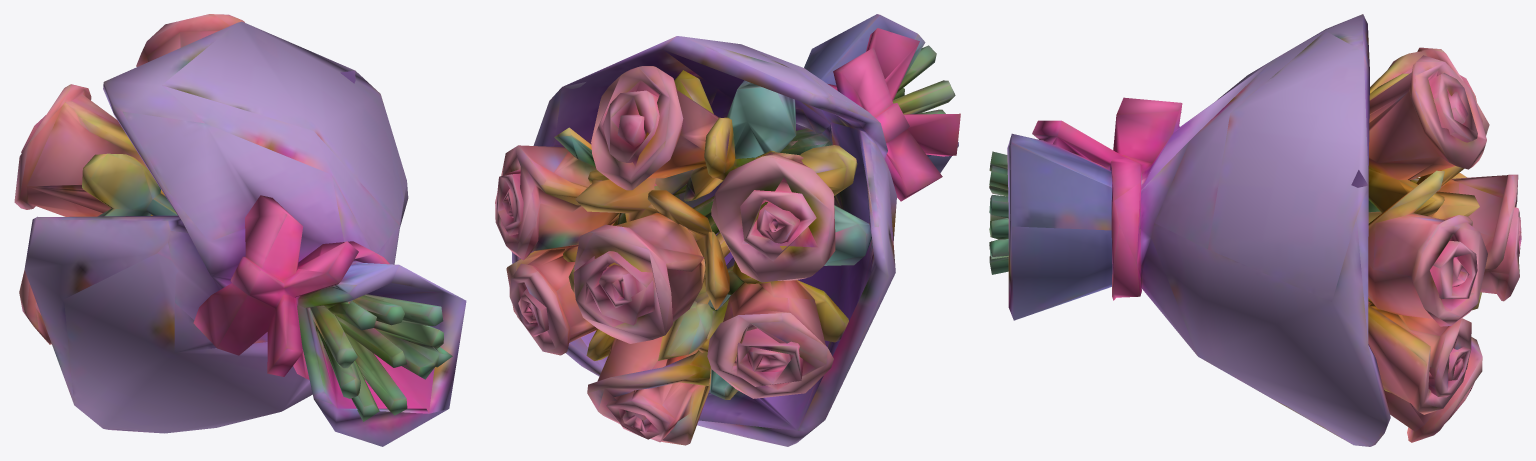
3 renders of one model, left to right at view 1: azimuth 30°, elevation 25°; view 2: azimuth 150°, elevation 25°; view 3: azimuth 270°, elevation 25°, orthographic. The views are drawn at different scales.
Parts seen in each view (by area): view 1: material; view 2: material; view 3: material.
Part boxes in pixels (x1,y1,x2,y2): material: [14, 14, 466, 446]; material: [495, 14, 960, 446]; material: [989, 14, 1521, 446].
Size of the model in its own units: 0.8127 by 0.8025 by 1.
Materials: 1 (1 with a texture image).
